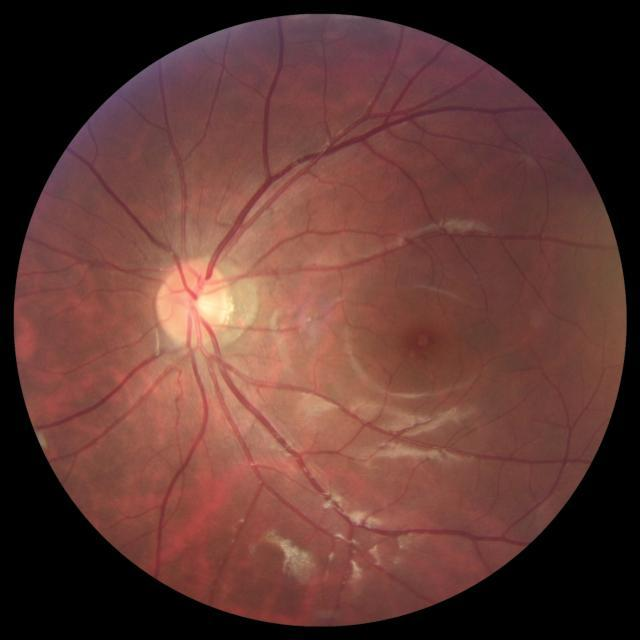OC: (186, 287, 218, 322)
OD: (157, 260, 230, 346)
